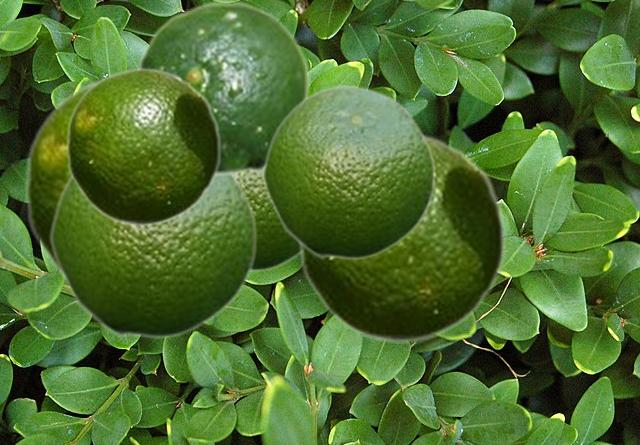calamansi: (297, 131, 506, 342), (48, 175, 257, 338), (261, 83, 435, 259), (137, 0, 310, 176), (65, 67, 221, 225), (23, 72, 113, 283), (238, 174, 298, 271)
